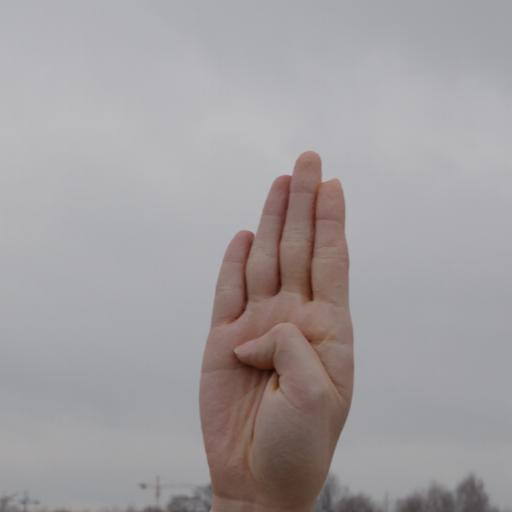B: (193, 146, 363, 512)
